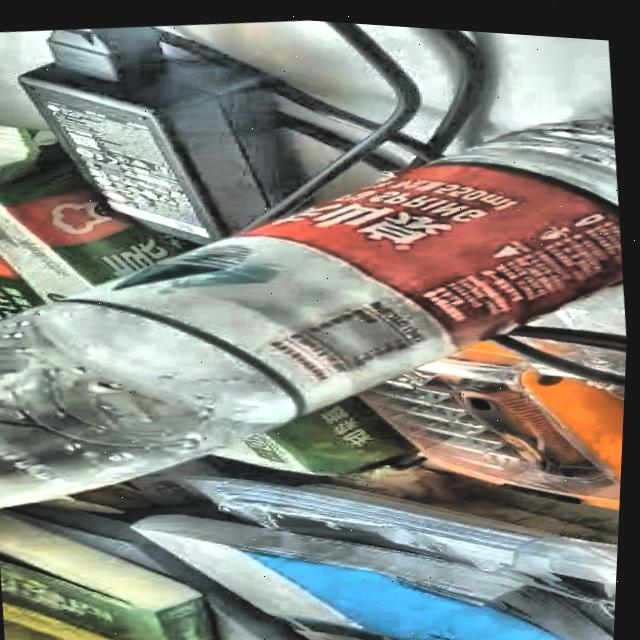plastic: (0, 82, 637, 596)
